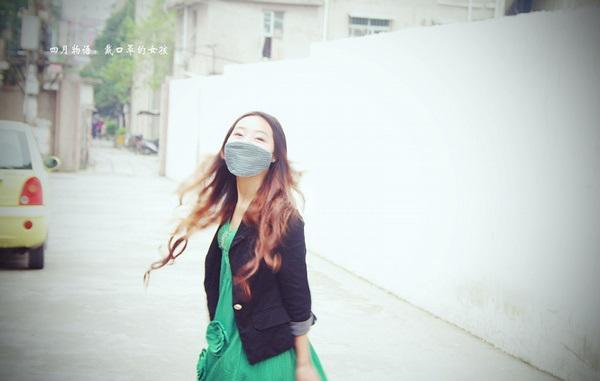OK: (220, 122, 274, 176)
